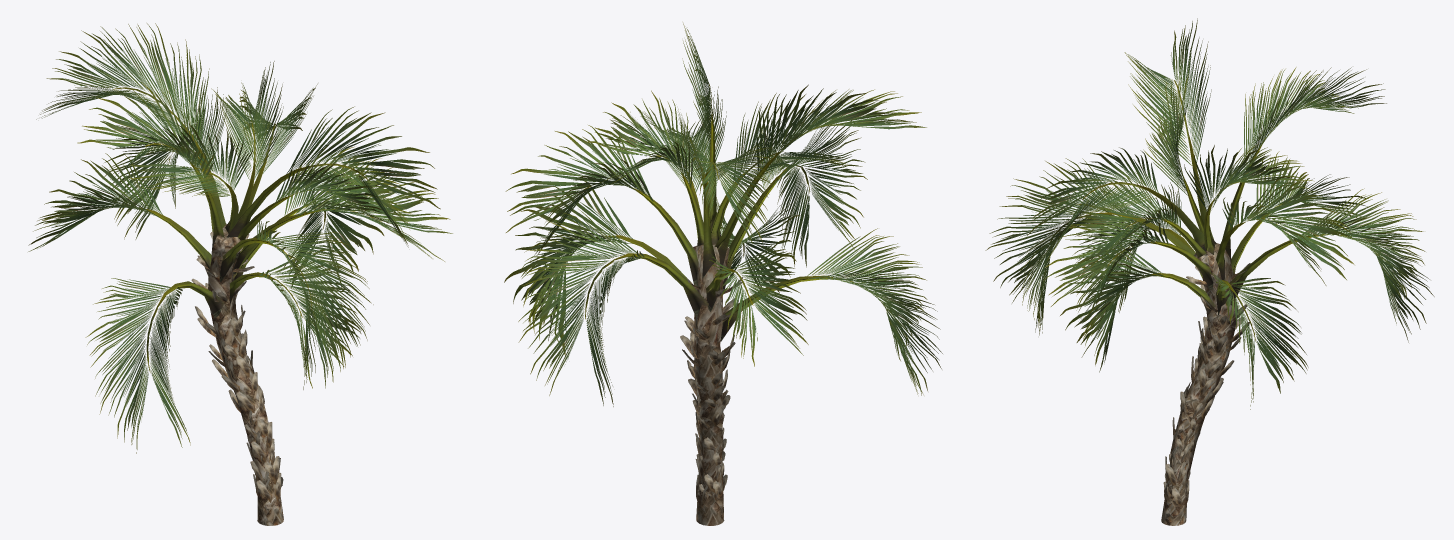
Rendered from curlypalm.glb.
The picture shows the model from 3 angles, left to right: view 1: azimuth 30°, elevation 25°; view 2: azimuth 150°, elevation 25°; view 3: azimuth 270°, elevation 25°; orthographic projection. The views are drawn at different scales.
Parts seen in each view (by area): view 1: Tree_1, Tree_3, Tree_0, Tree_2; view 2: Tree_1, Tree_3, Tree_0, Tree_2; view 3: Tree_1, Tree_3, Tree_0, Tree_2.
Boxes of the visible parts, <box> form: Tree_1: <box>28,23,452,453</box>; Tree_3: <box>140,117,320,317</box>; Tree_0: <box>208,223,283,525</box>; Tree_2: <box>191,232,283,502</box>; Tree_1: <box>504,23,942,406</box>; Tree_3: <box>605,114,842,341</box>; Tree_0: <box>693,244,729,525</box>; Tree_2: <box>680,277,742,505</box>; Tree_1: <box>985,18,1434,409</box>; Tree_3: <box>1096,134,1326,319</box>; Tree_0: <box>1161,243,1237,525</box>; Tree_2: <box>1163,263,1250,506</box>.
Size of the model in its own units: 1.69 by 2.01 by 1.92.
Materials: 4 (4 with a texture image).
